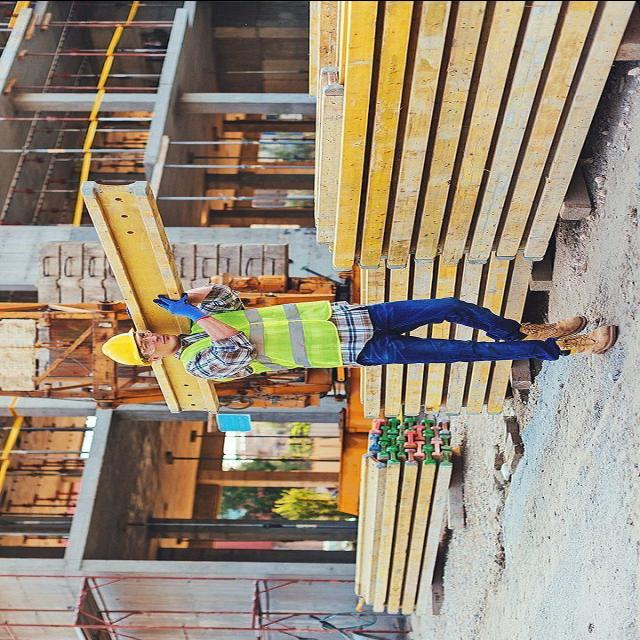helmet: (175, 299, 346, 383), (95, 321, 149, 373)
